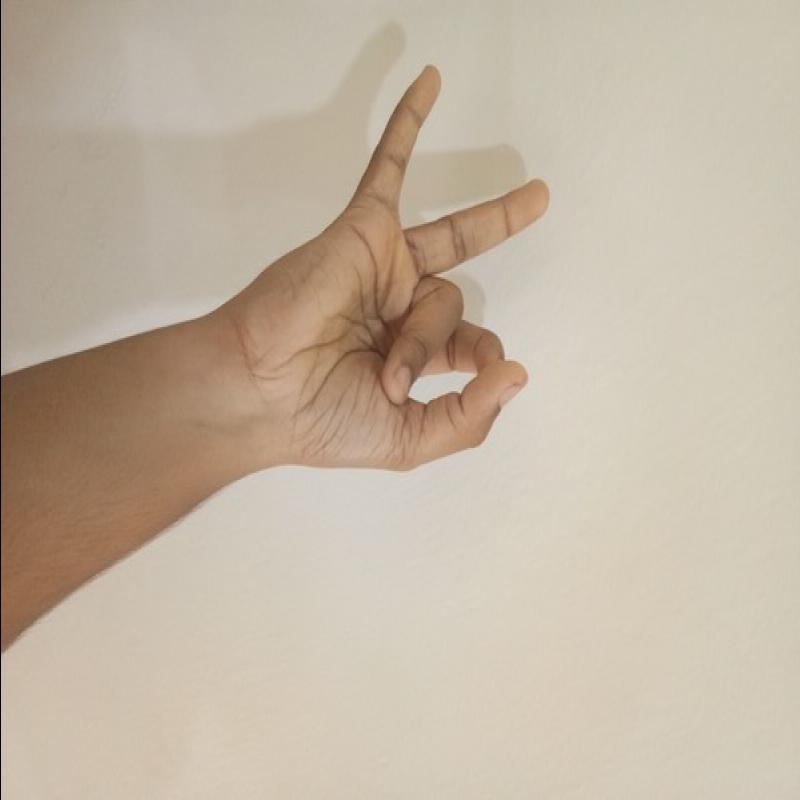Katakam: (226, 53, 602, 501)
